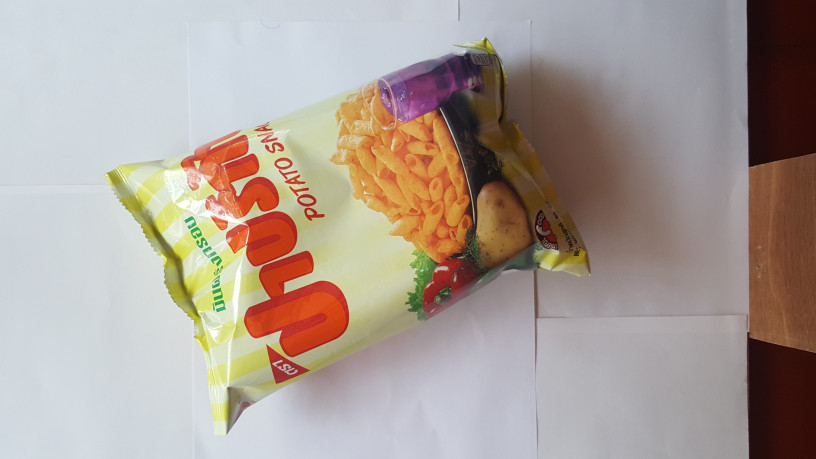paprika: (99, 34, 605, 439)
